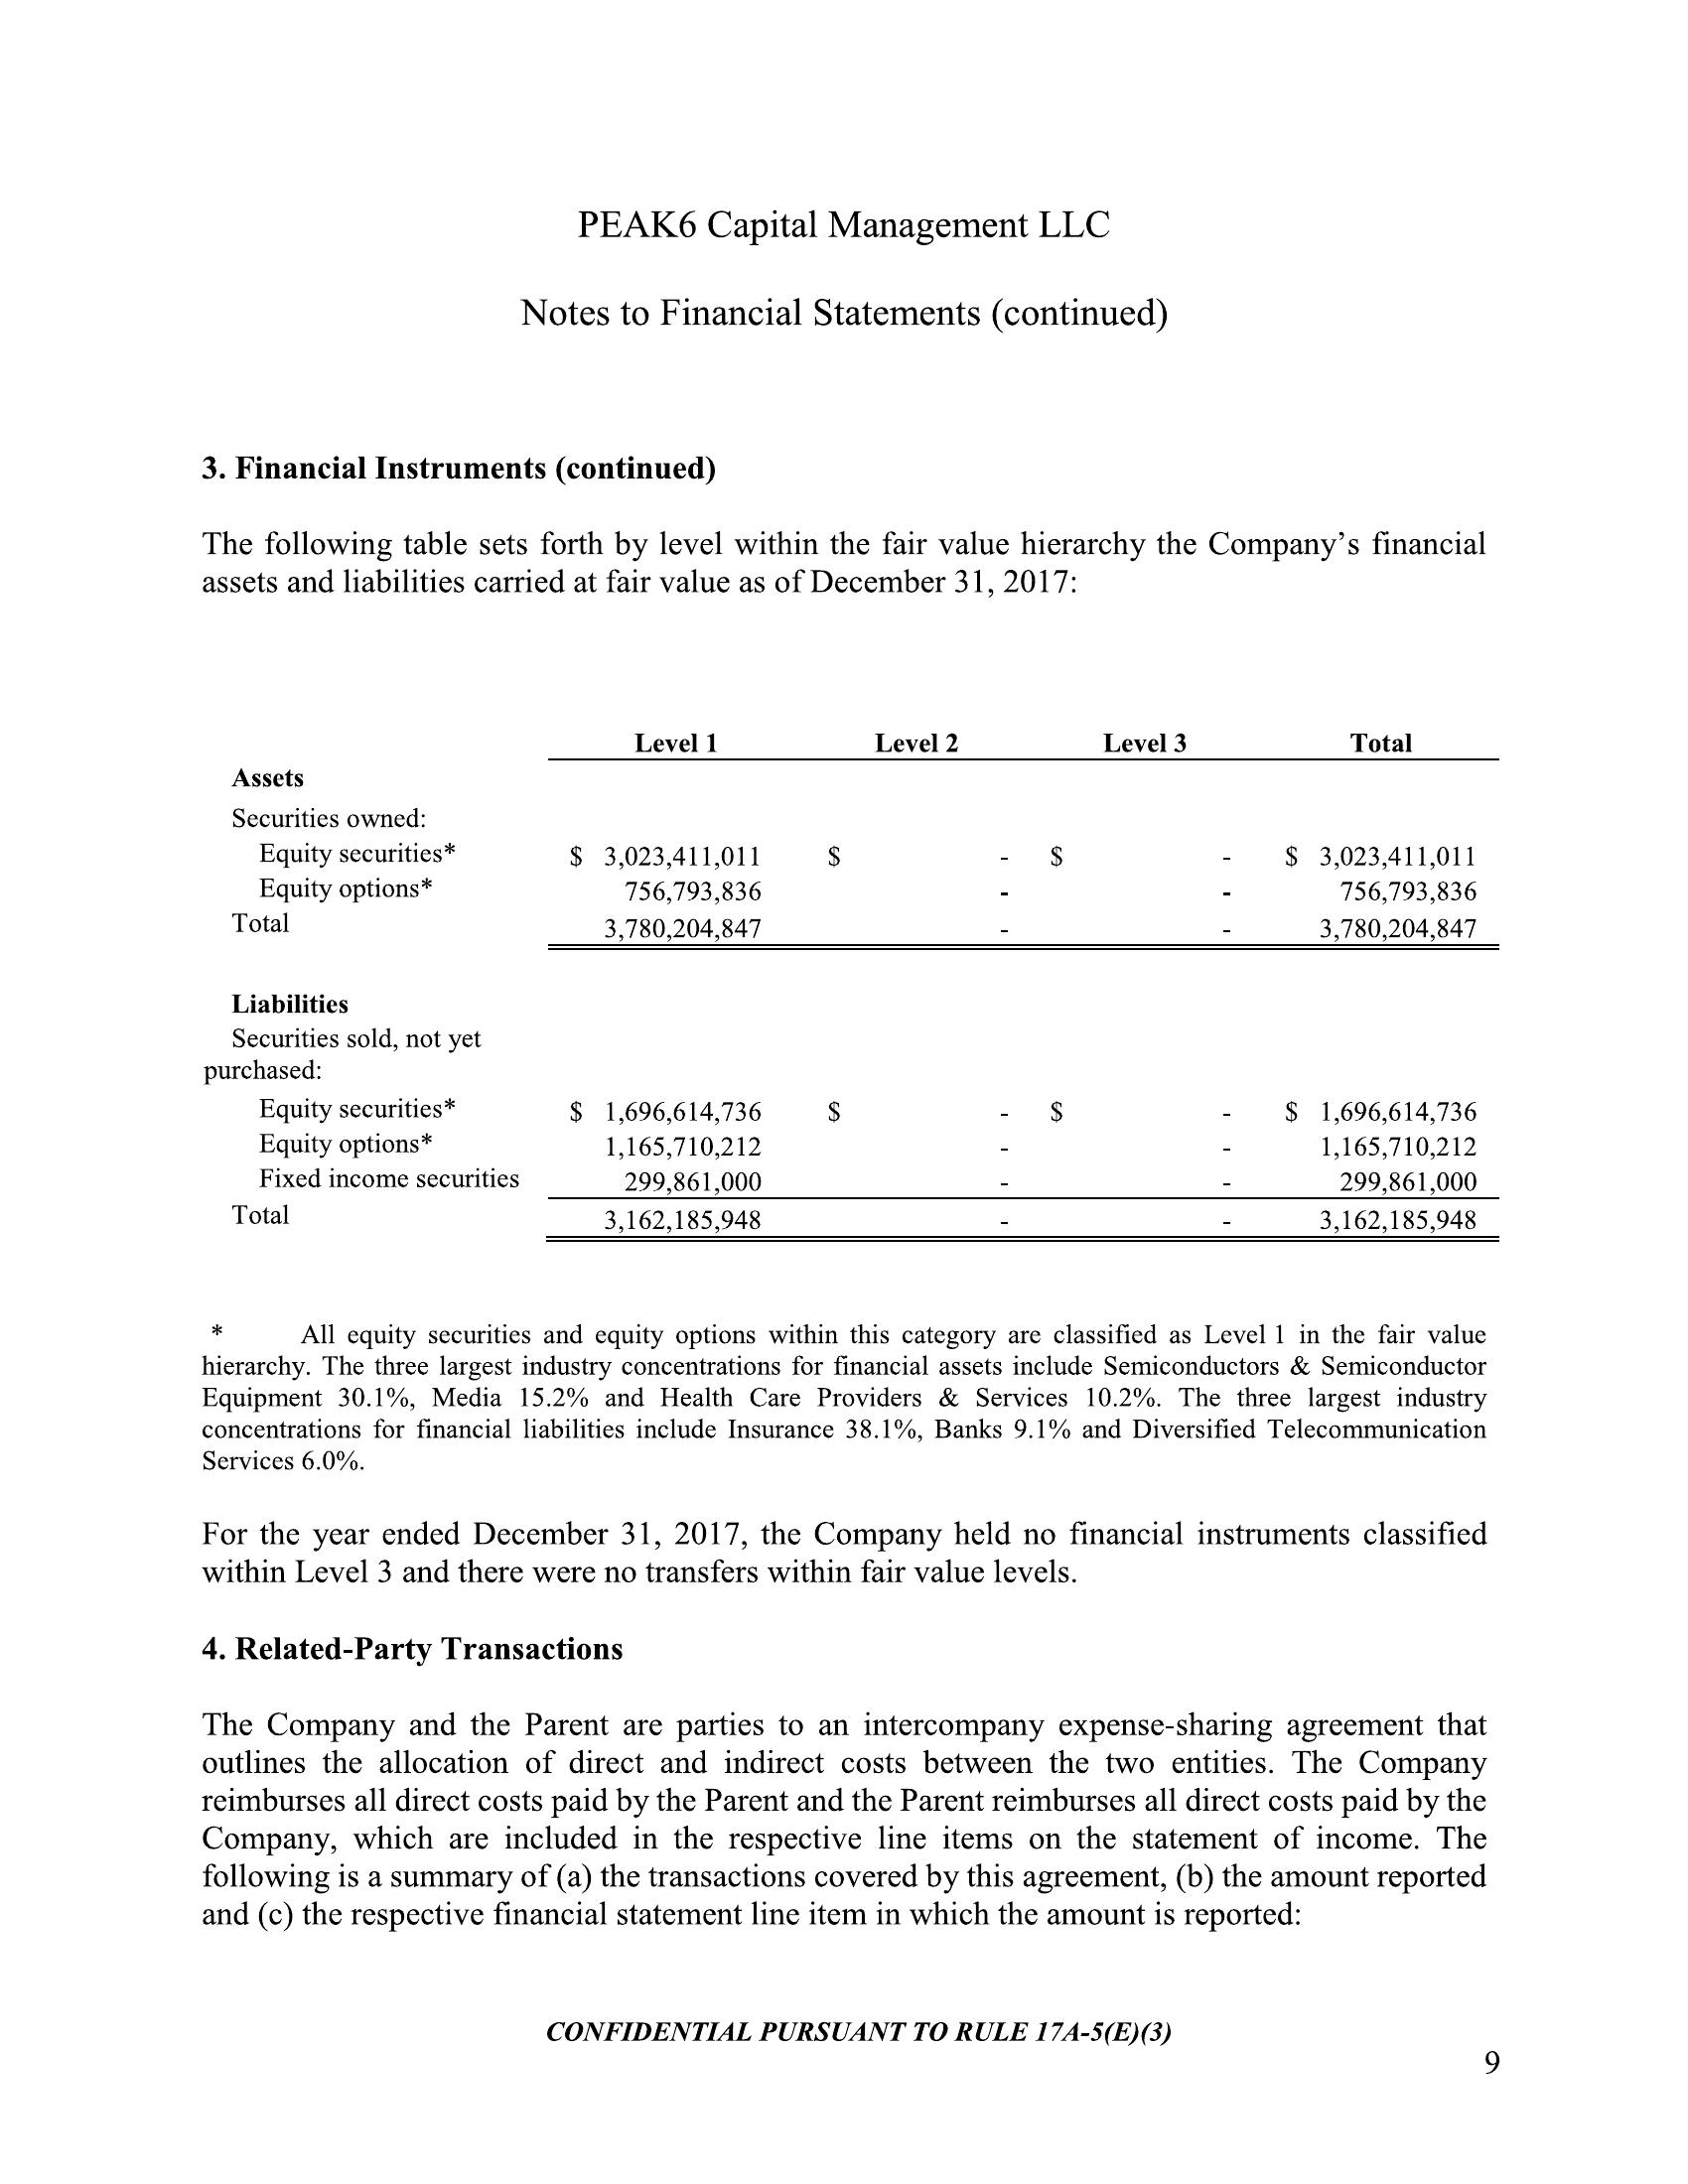table: (209, 727, 1507, 1248)
